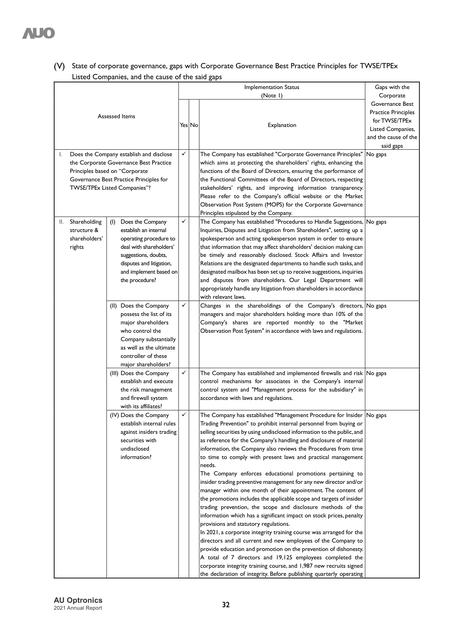box: (53, 80, 420, 579)
